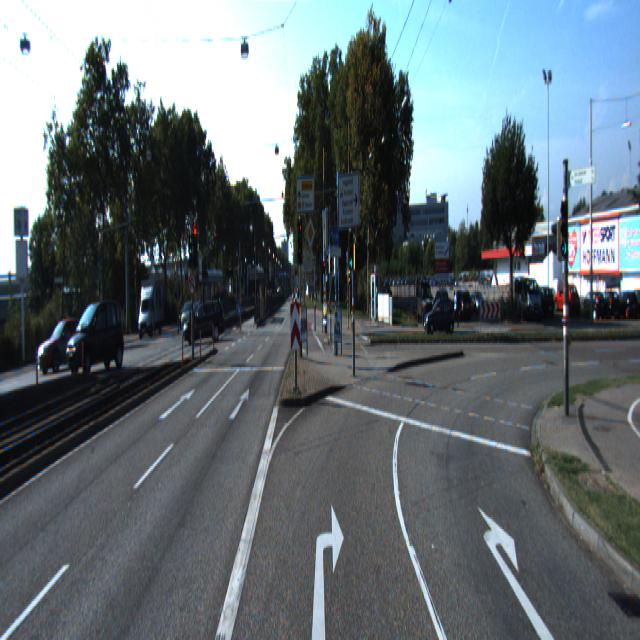Car: (66, 300, 126, 378), (37, 316, 94, 377), (181, 299, 228, 348), (136, 279, 165, 339), (422, 294, 457, 334)
